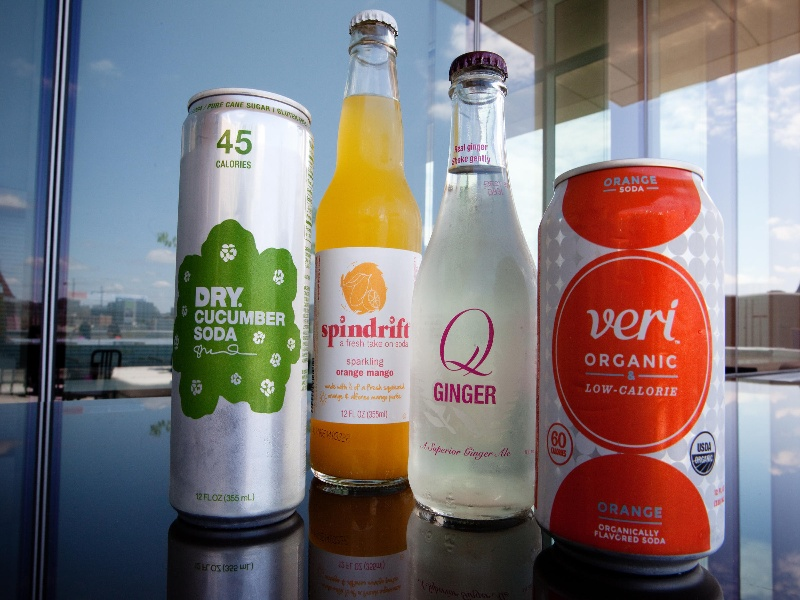Can: (498, 103, 759, 591), (144, 66, 325, 518)
Glass bottle: (297, 11, 421, 497)
